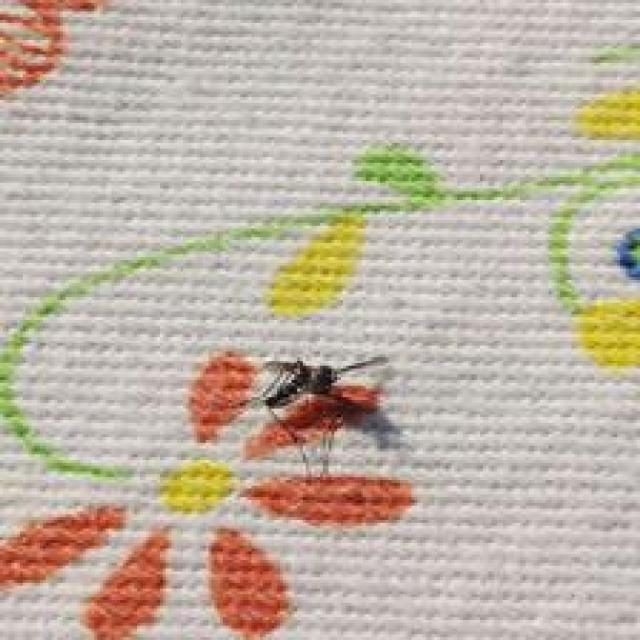Aedes albopictus: (241, 353, 390, 478)
